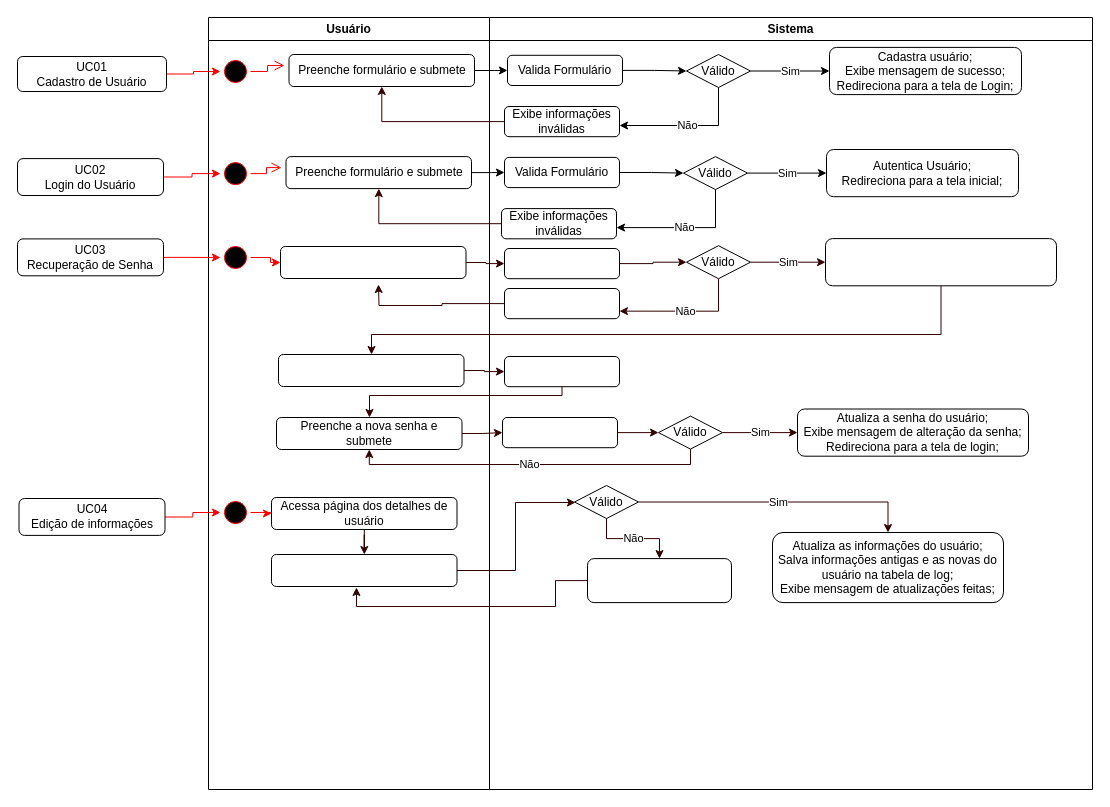
The diagram is 1110 pixels wide and 807 high, and some of its shapes have lost their labels. Each missing label, with the centre of its shape:
Abre tela para informar nova senha: (x=562, y=371)
Atualiza as informações e submete: (x=363, y=570)
Clica em "esqueci minha senha"; Informa email e submete;: (x=373, y=262)
Envia email de recuperação de senha; Exibe mensagem de email enviado;: (x=940, y=262)
Exibe as informações inválidas: (x=659, y=580)
Exibe que email não está cadastrado: (x=562, y=303)
Usuário acessa o link de recuperação: (x=371, y=370)
Valida existência do email: (x=562, y=263)
Valida se senhas são iguais e força: (x=560, y=432)
